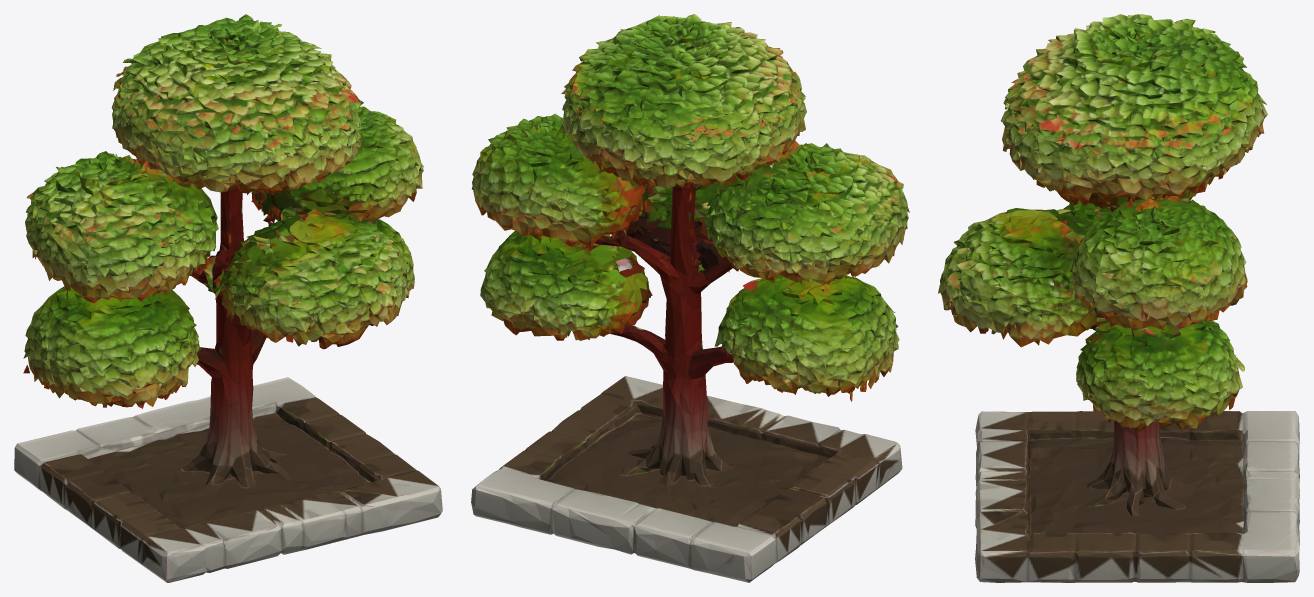
The model's file is cafe-street-tree.glb.
The picture shows the model from 3 angles, left to right: view 1: azimuth 30°, elevation 25°; view 2: azimuth 150°, elevation 25°; view 3: azimuth 270°, elevation 25°; orthographic projection. The views are drawn at different scales.
Parts seen in each view (by area): view 1: textured; view 2: textured; view 3: textured.
Boxes of the visible parts, <box> form: textured: <box>14,14,442,582</box>; textured: <box>471,14,909,582</box>; textured: <box>938,14,1299,582</box>.
Bounding box in the file's own units: 1.75 × 1.98 × 1.34.
Materials: 1 (1 with a texture image).
